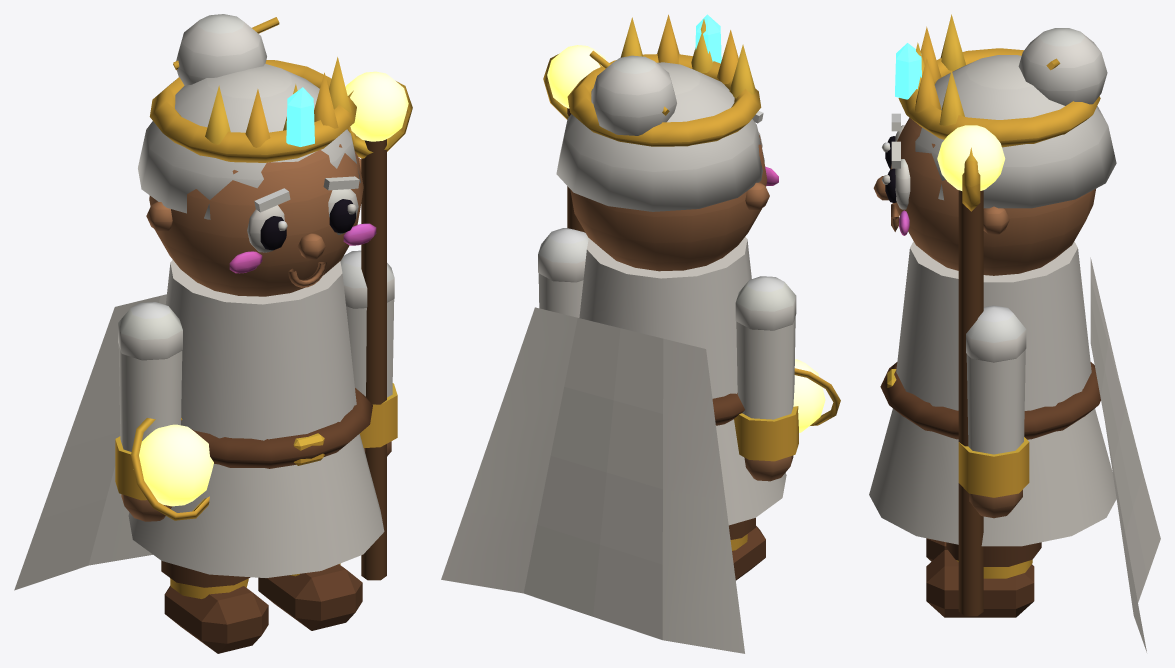
Rendered from hero_rosalind.glb.
The picture shows the model from 3 angles, left to right: view 1: azimuth 30°, elevation 25°; view 2: azimuth 150°, elevation 25°; view 3: azimuth 270°, elevation 25°; orthographic projection. The views are drawn at different scales.
Visible parts, largest first — view 1: body_t0_palette, armr_t0_palette, arml_t0_palette, legl_t0_palette, arml_t0_glow_gold, legr_t0_palette, armr_t0_glow_gold, body_t0_crystal; view 2: body_t0_palette, arml_t0_palette, armr_t0_palette, armr_t0_glow_gold, legl_t0_palette, arml_t0_glow_gold, body_t0_crystal; view 3: body_t0_palette, armr_t0_palette, legr_t0_palette, armr_t0_glow_gold, body_t0_crystal.
Boxes of the visible parts, box(x1,y1,x2,y2) form: body_t0_palette: box(14, 14, 384, 590); armr_t0_palette: box(340, 81, 412, 580); arml_t0_palette: box(115, 302, 209, 521); legl_t0_palette: box(161, 561, 268, 653); arml_t0_glow_gold: box(139, 424, 213, 506); legr_t0_palette: box(258, 563, 362, 630); armr_t0_glow_gold: box(345, 71, 408, 141); body_t0_crystal: box(286, 87, 314, 146); body_t0_palette: box(441, 14, 786, 653); arml_t0_palette: box(734, 276, 840, 481); armr_t0_palette: box(538, 54, 601, 317); armr_t0_glow_gold: box(547, 45, 605, 108); legl_t0_palette: box(729, 518, 765, 580); arml_t0_glow_gold: box(793, 359, 825, 432); body_t0_crystal: box(695, 14, 721, 63); body_t0_palette: box(869, 14, 1160, 652); armr_t0_palette: box(958, 147, 1029, 616); legr_t0_palette: box(926, 542, 1041, 617); armr_t0_glow_gold: box(937, 125, 1005, 190); body_t0_crystal: box(895, 43, 921, 99).
Bounding box in the file's own units: 0.32 × 0.54 × 0.257.
